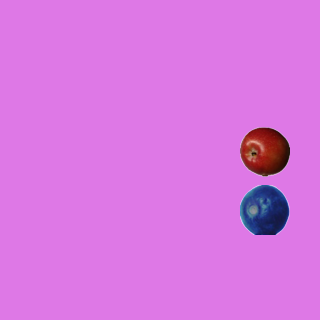Apple Braeburn: (239, 126, 289, 176)
Huckleberry: (239, 184, 289, 234)
